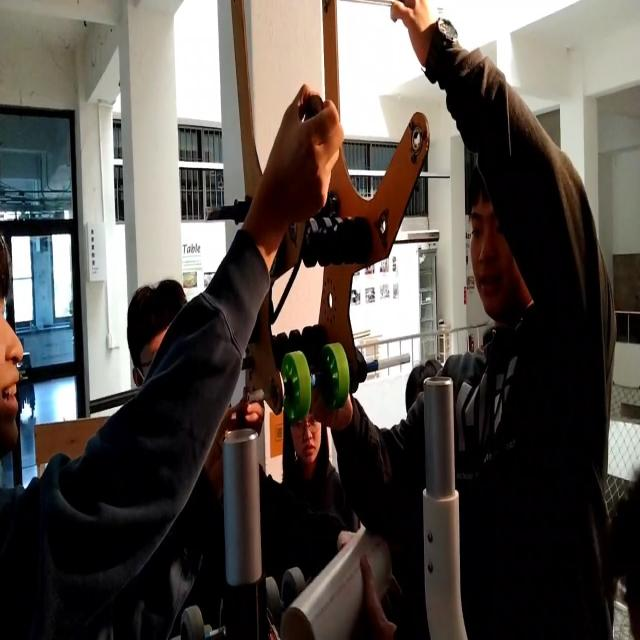CORAL: (282, 513, 398, 640)
